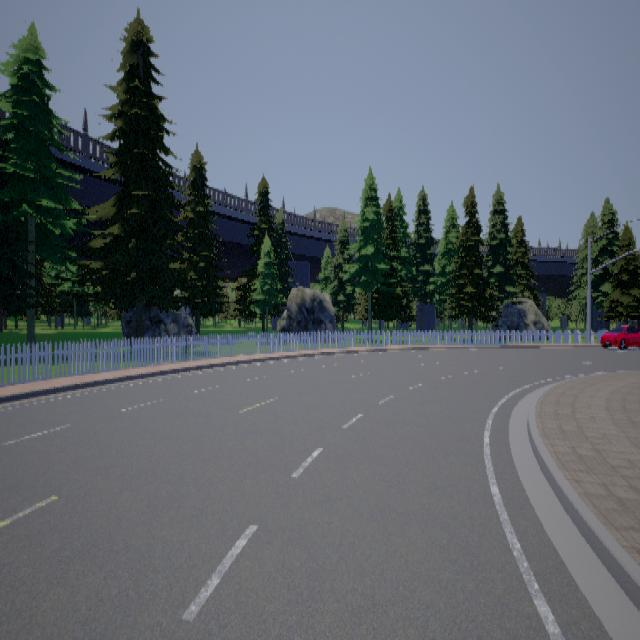traffic_light: (590, 296, 593, 308)
vehicle: (599, 323, 639, 349)
